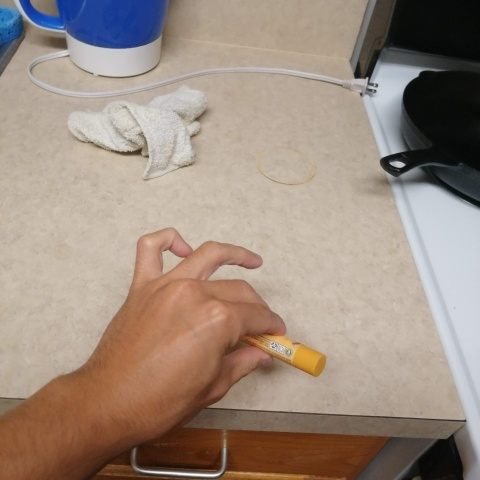chapstick: (240, 334, 327, 378)
